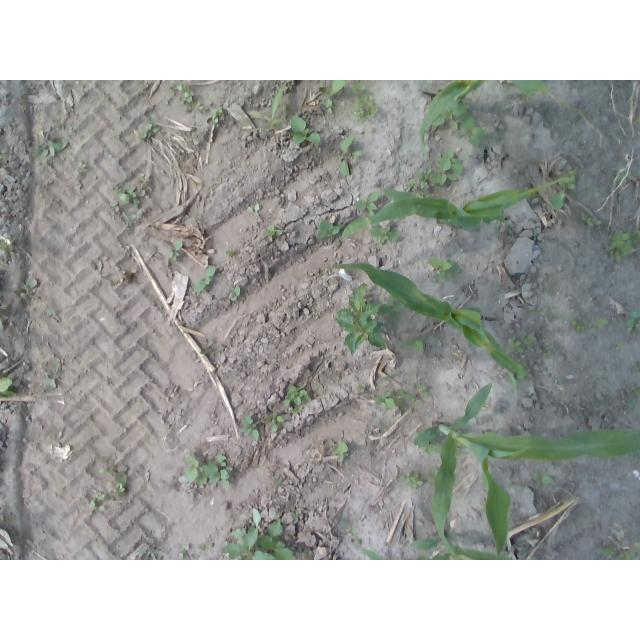Maize: (412, 384, 640, 561), (327, 260, 537, 401), (330, 174, 570, 240), (416, 80, 565, 154), (345, 522, 512, 560)
Weeds: (334, 282, 397, 354), (220, 506, 294, 560), (246, 82, 289, 131), (183, 453, 234, 490), (416, 148, 462, 188), (429, 98, 468, 130), (349, 80, 378, 122), (454, 114, 492, 146), (551, 167, 578, 211), (606, 229, 640, 262), (35, 130, 69, 160), (374, 389, 421, 410), (338, 136, 362, 177), (290, 115, 321, 144), (283, 384, 312, 415), (319, 80, 346, 113), (375, 294, 405, 323), (428, 255, 460, 282), (599, 540, 640, 560), (112, 184, 146, 208), (176, 82, 204, 111), (504, 331, 537, 354), (414, 431, 443, 456), (351, 192, 379, 217), (40, 362, 64, 390), (195, 266, 217, 294), (317, 220, 344, 241), (238, 415, 259, 442), (370, 225, 399, 244), (88, 491, 109, 514), (114, 464, 129, 496), (405, 181, 431, 199), (530, 469, 554, 488), (198, 337, 222, 356), (512, 360, 531, 383), (398, 471, 422, 489), (266, 411, 287, 431), (404, 334, 426, 353), (96, 260, 112, 285), (331, 442, 350, 463), (612, 165, 632, 183), (22, 277, 38, 299), (139, 124, 162, 139), (580, 212, 603, 227), (567, 315, 585, 333), (167, 241, 182, 262), (626, 309, 640, 331), (0, 237, 16, 256), (205, 107, 223, 123), (587, 318, 609, 331), (524, 186, 539, 205), (414, 382, 431, 398), (0, 377, 14, 396), (454, 441, 467, 460), (122, 212, 138, 227), (544, 307, 560, 322), (262, 225, 282, 237), (71, 162, 89, 175), (478, 498, 490, 515), (519, 89, 533, 103), (427, 469, 440, 483), (229, 284, 240, 300), (541, 346, 552, 359), (629, 384, 640, 397), (247, 203, 261, 213), (179, 545, 190, 557), (357, 383, 368, 394), (109, 200, 119, 212), (136, 173, 147, 183), (383, 372, 394, 382), (139, 544, 150, 554), (273, 477, 283, 487), (0, 148, 8, 160), (291, 510, 301, 519), (342, 519, 351, 529), (226, 249, 235, 257), (616, 342, 624, 350), (46, 307, 55, 314), (197, 547, 206, 554), (303, 549, 310, 557), (634, 362, 640, 371), (0, 318, 4, 327)
